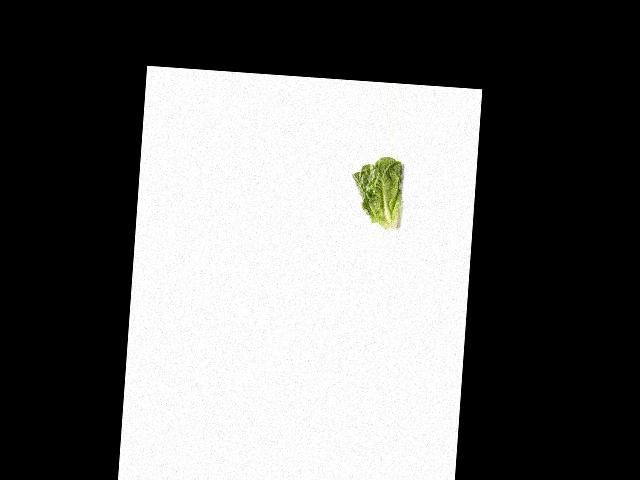lettuce: (348, 154, 415, 235)
